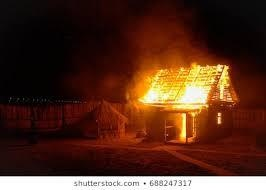fire: (136, 61, 237, 107)
